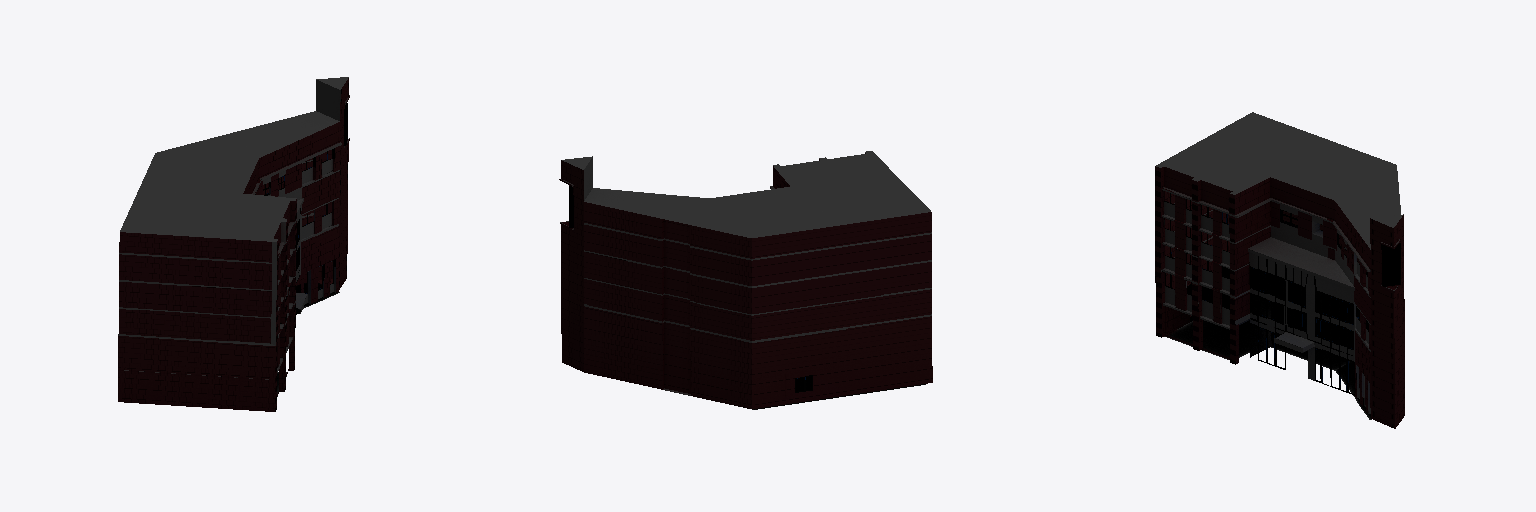
3 views of the same model, side by side, from view 1: azimuth 30°, elevation 25°; view 2: azimuth 150°, elevation 25°; view 3: azimuth 270°, elevation 25° (orthographic).
Parts seen in each view (by area): view 1: Cube.001; view 2: Cube.001; view 3: Cube.001.
Part boxes in pixels (x1,y1,x2,y2): Cube.001: (118, 77, 349, 411); Cube.001: (559, 151, 932, 409); Cube.001: (1155, 112, 1404, 428).
Bounding box in the file's own units: 24.03 × 15.36 × 17.23.
Materials: 5 (1 with a texture image).